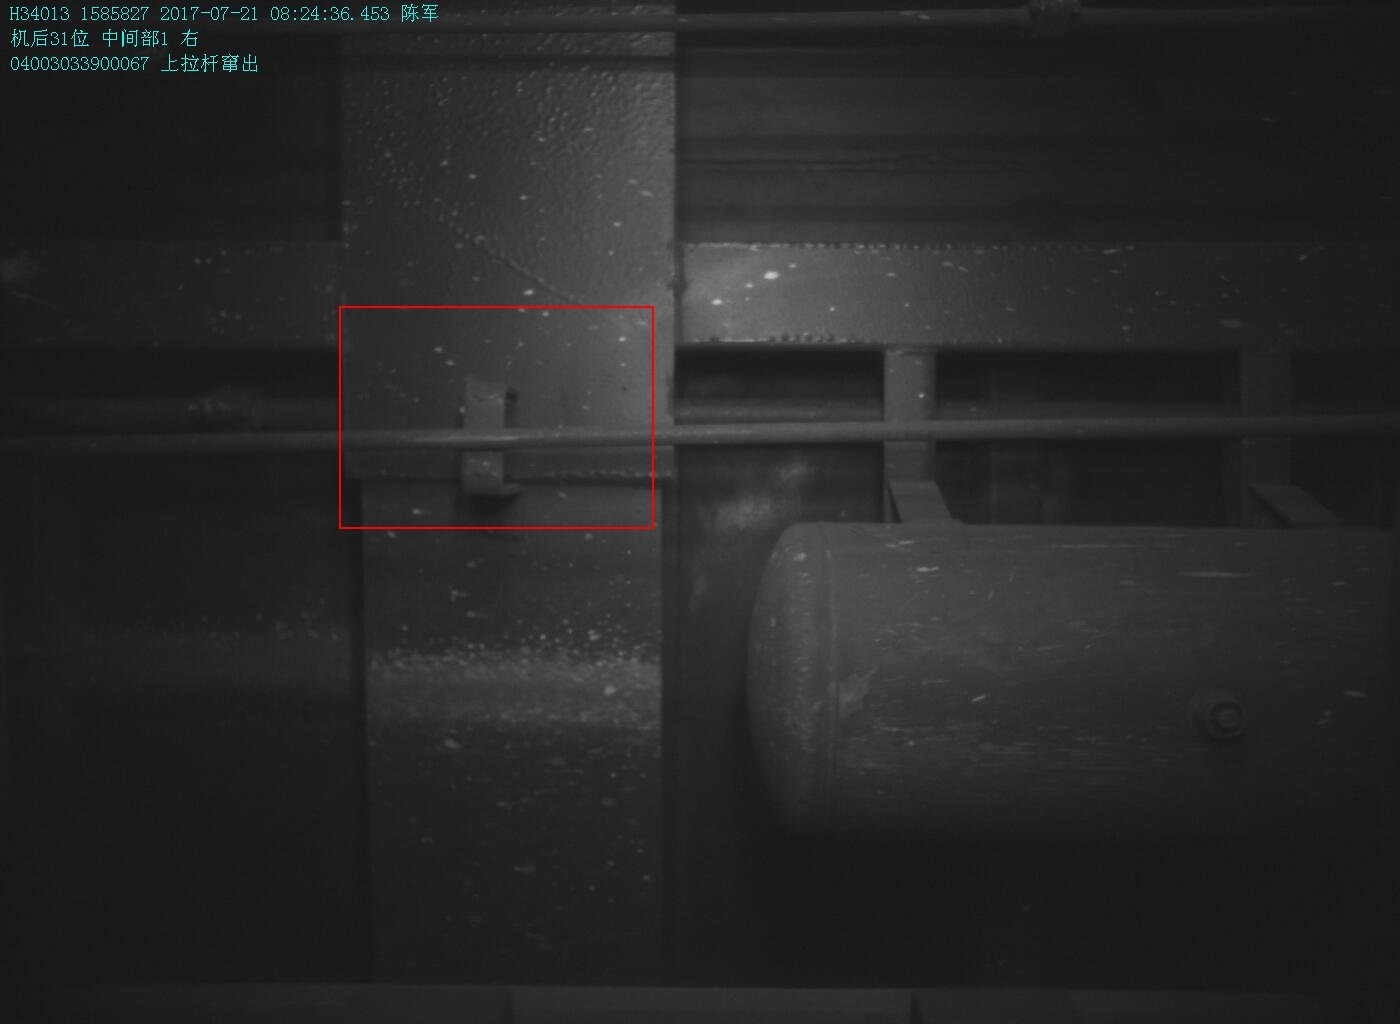upper lever: (457, 379, 518, 500)
